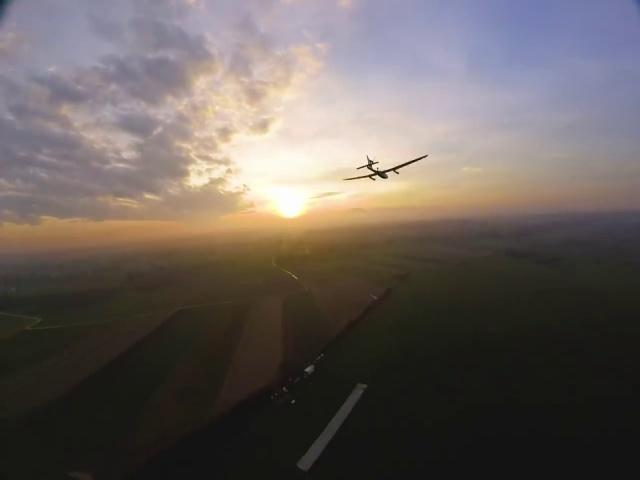Airplane: (340, 152, 434, 188)
